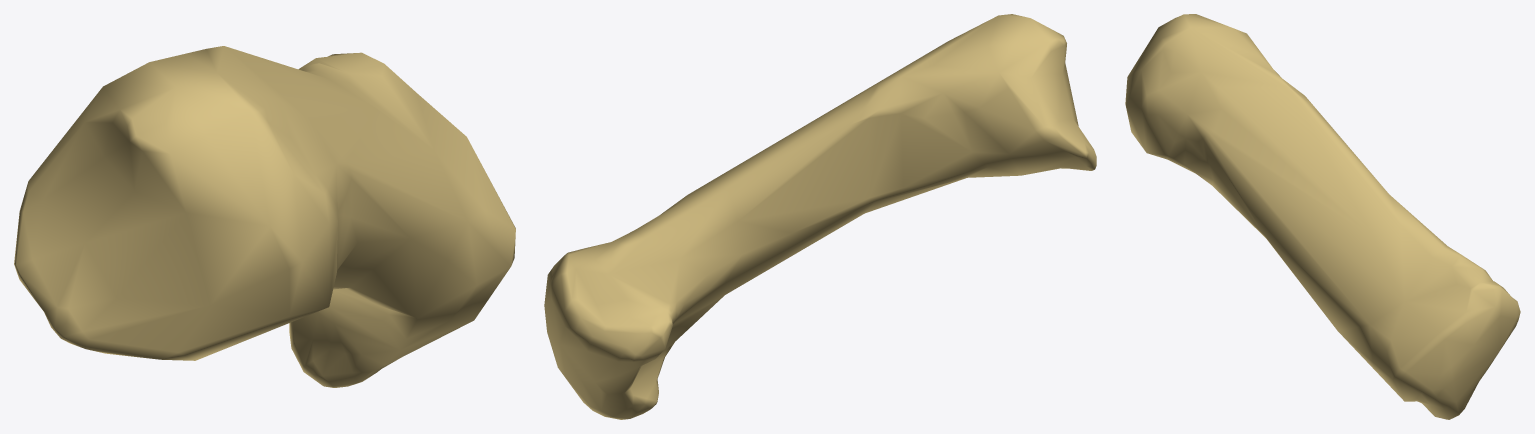
The picture shows the model from 3 angles, left to right: view 1: azimuth 30°, elevation 25°; view 2: azimuth 150°, elevation 25°; view 3: azimuth 270°, elevation 25°; orthographic projection. The views are drawn at different scales.
Visible parts, largest first — view 1: 左侧第一掌骨; view 2: 左侧第一掌骨; view 3: 左侧第一掌骨.
Boxes of the visible parts, box(x1,y1,x2,y2) form: 左侧第一掌骨: box(14, 46, 515, 387); 左侧第一掌骨: box(544, 14, 1096, 419); 左侧第一掌骨: box(1125, 14, 1520, 419).
Size of the model in its own units: 0.057 by 0.0464 by 0.0565.
